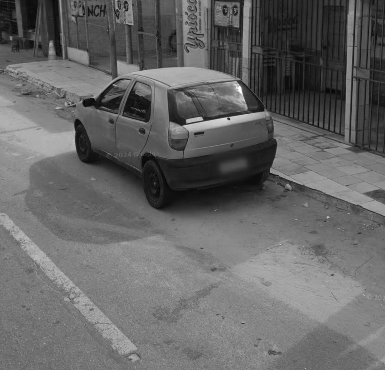car: (71, 62, 282, 211)
